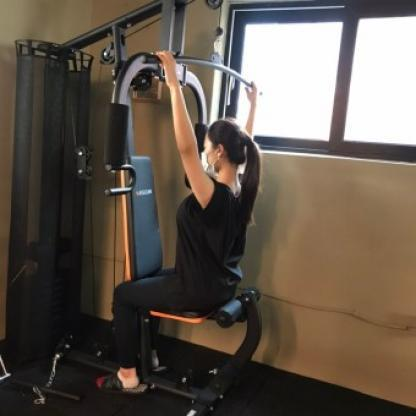Lat Pull Down: (0, 0, 314, 410)
